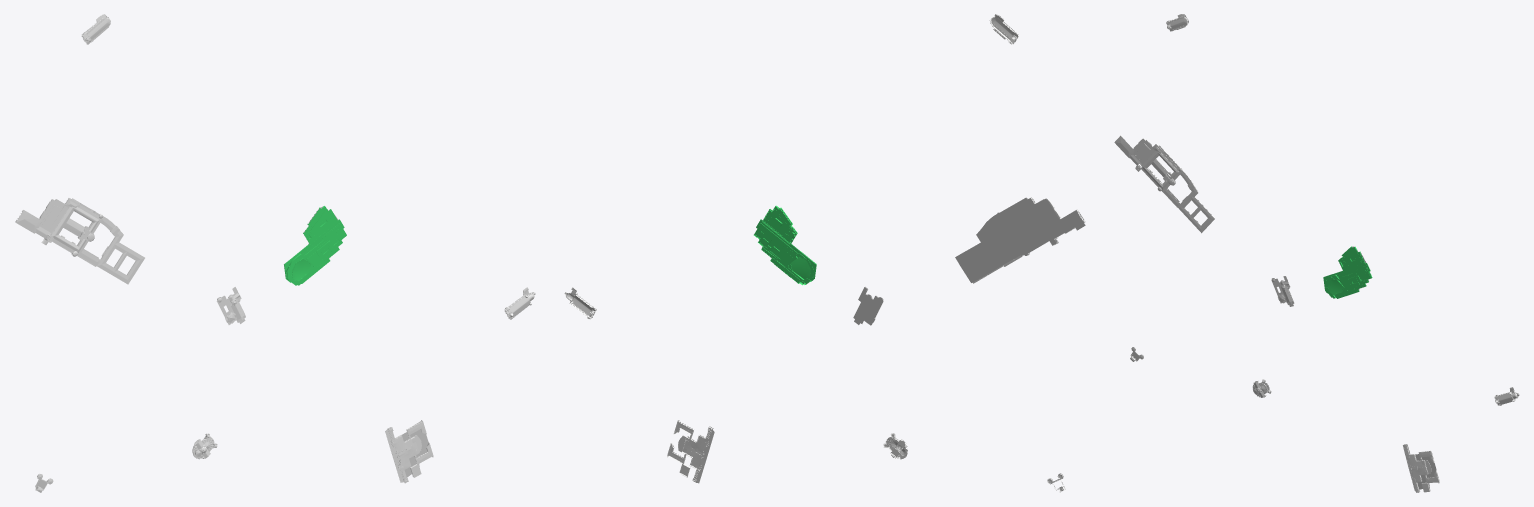
3 renders of one model, left to right at view 1: azimuth 30°, elevation 25°; view 2: azimuth 150°, elevation 25°; view 3: azimuth 330°, elevation 25°, orthographic. The views are drawn at different scales.
Size of the model in its own units: 6737 by 6689 by 93.87.
